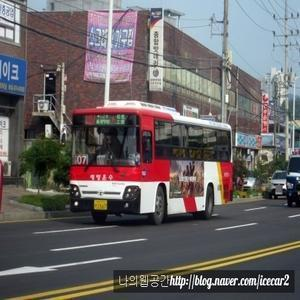07bus: (64, 101, 240, 227)
